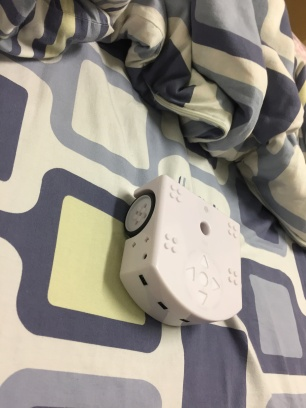thymio: (116, 173, 249, 335)
